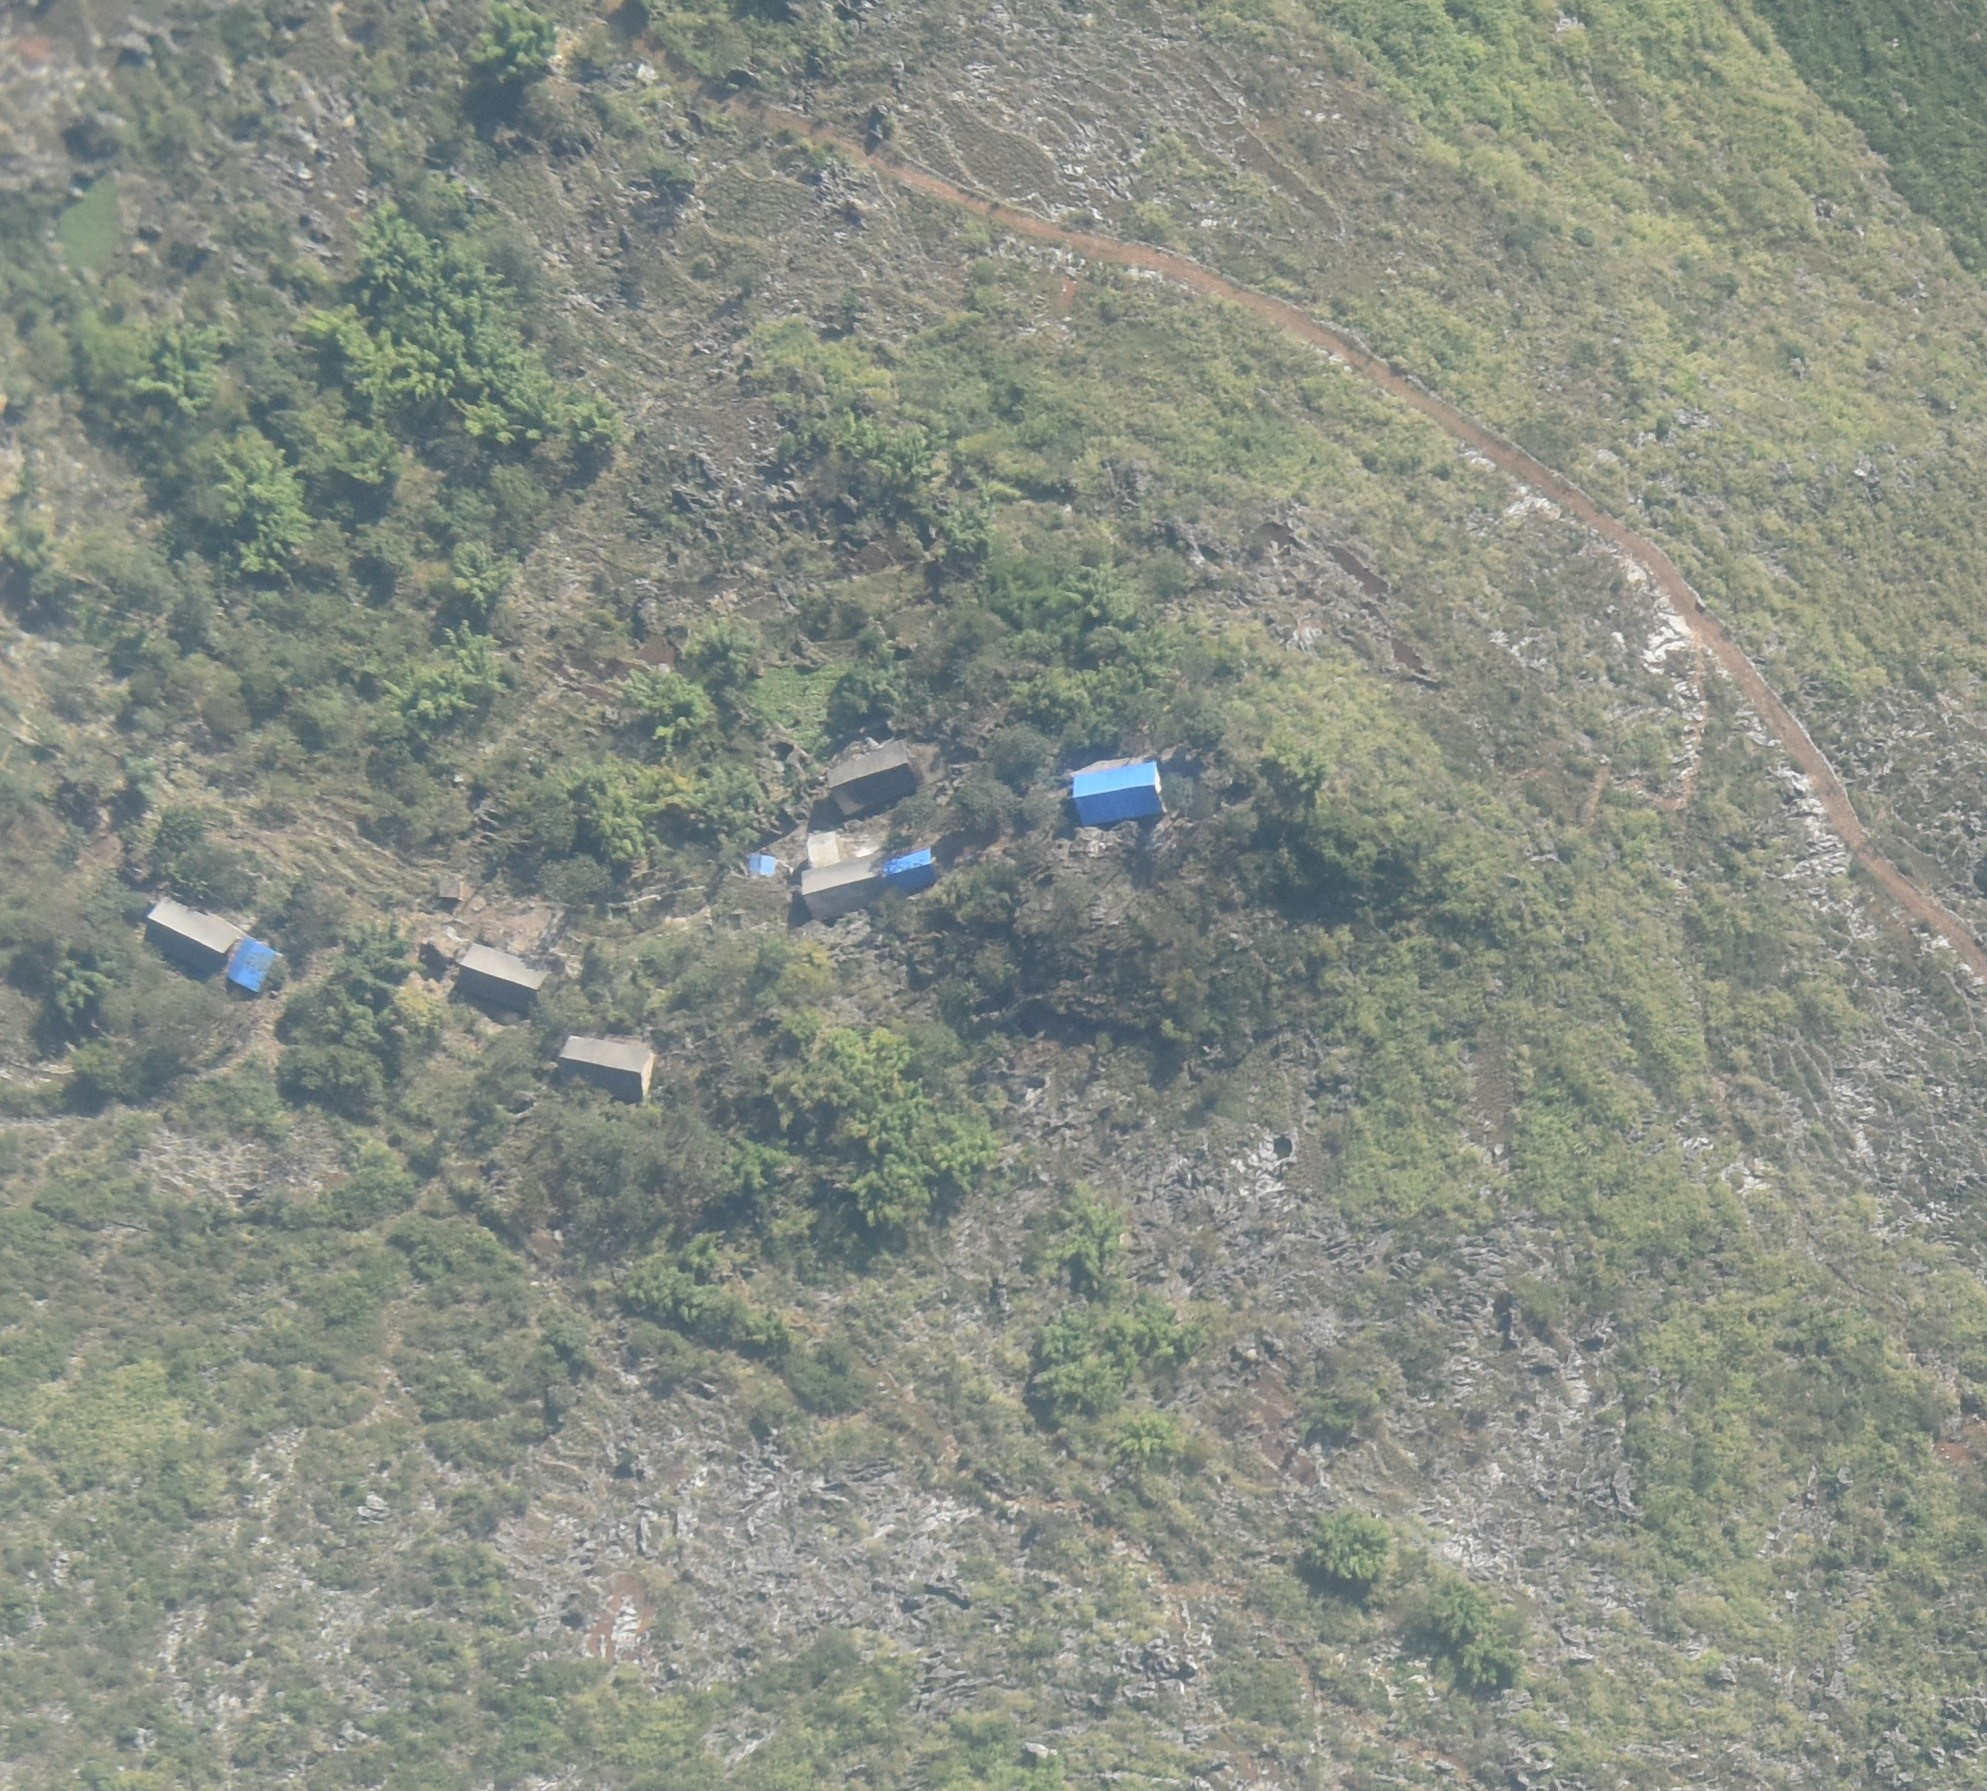building: (825, 736, 918, 818), (458, 944, 550, 1015), (147, 897, 239, 965), (806, 833, 875, 920), (560, 1037, 655, 1098), (436, 875, 462, 897)
prefabricated-house: (1072, 757, 1164, 826), (227, 939, 282, 992), (880, 844, 941, 890), (749, 852, 775, 876)
